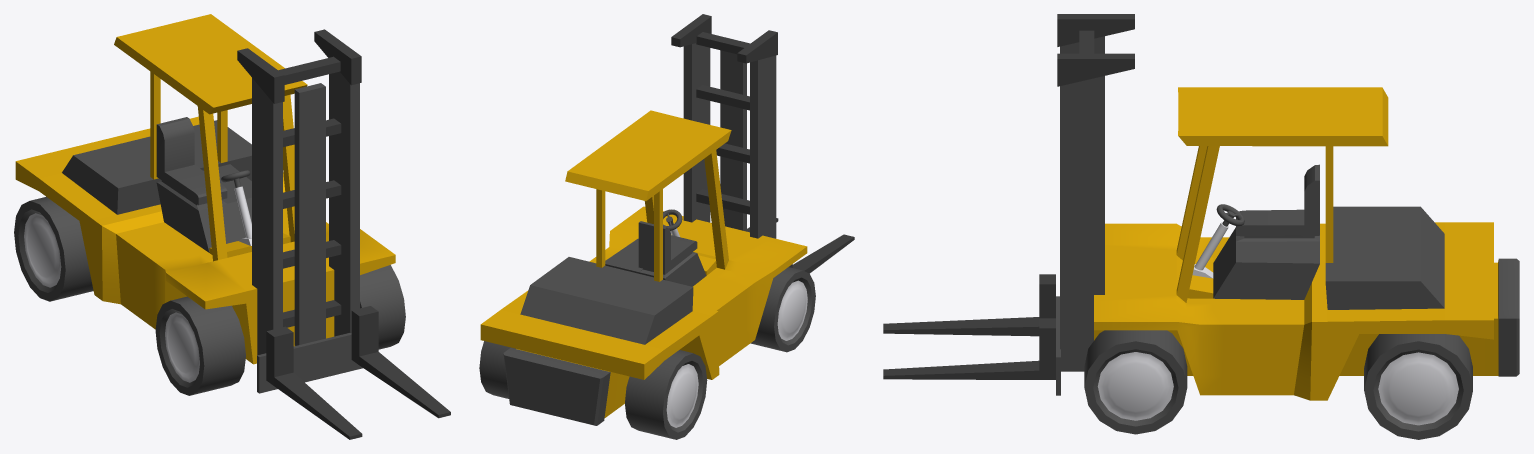
File: Forklift.fbx
3 renders of one model, left to right at view 1: azimuth 30°, elevation 25°; view 2: azimuth 150°, elevation 25°; view 3: azimuth 270°, elevation 25°, orthographic. The views are drawn at different scales.
Parts seen in each view (by area): view 1: Forklift_body, Lift, Fork; view 2: Forklift_body, Lift, Fork; view 3: Forklift_body, Lift, Fork.
Boxes of the visible parts, x1=… form: Forklift_body: x1=14, y1=14, x2=405, y2=395; Lift: x1=237, y1=29, x2=361, y2=355; Fork: x1=257, y1=306, x2=450, y2=439; Forklift_body: x1=479, y1=110, x2=815, y2=439; Lift: x1=671, y1=14, x2=777, y2=238; Fork: x1=747, y1=218, x2=854, y2=273; Forklift_body: x1=1084, y1=87, x2=1519, y2=439; Lift: x1=1057, y1=14, x2=1134, y2=371; Fork: x1=883, y1=274, x2=1060, y2=395.
Bounding box in the file's own units: 128 × 190 × 314.
